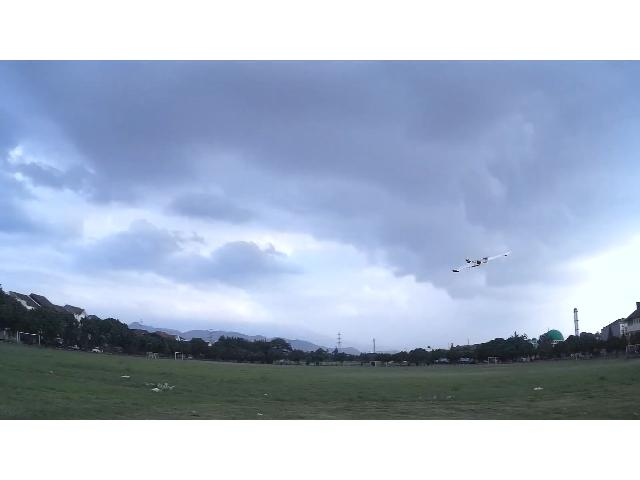Anti-Drone: (452, 251, 514, 273)
